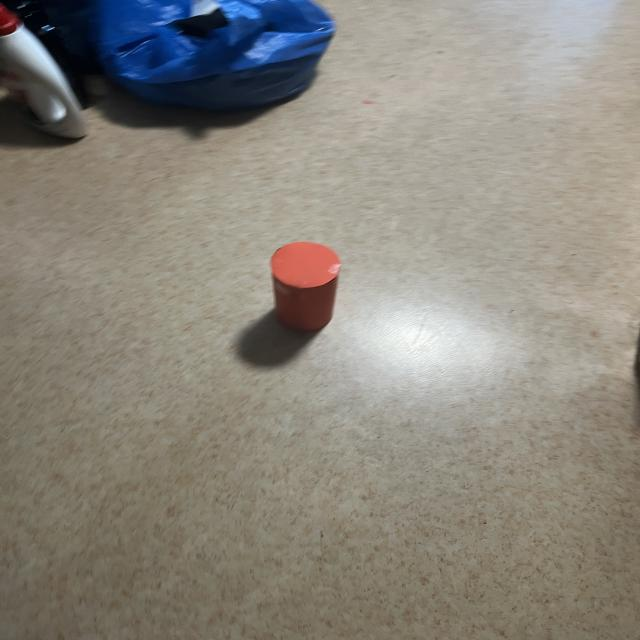przeszkoda: (270, 242, 341, 331)
